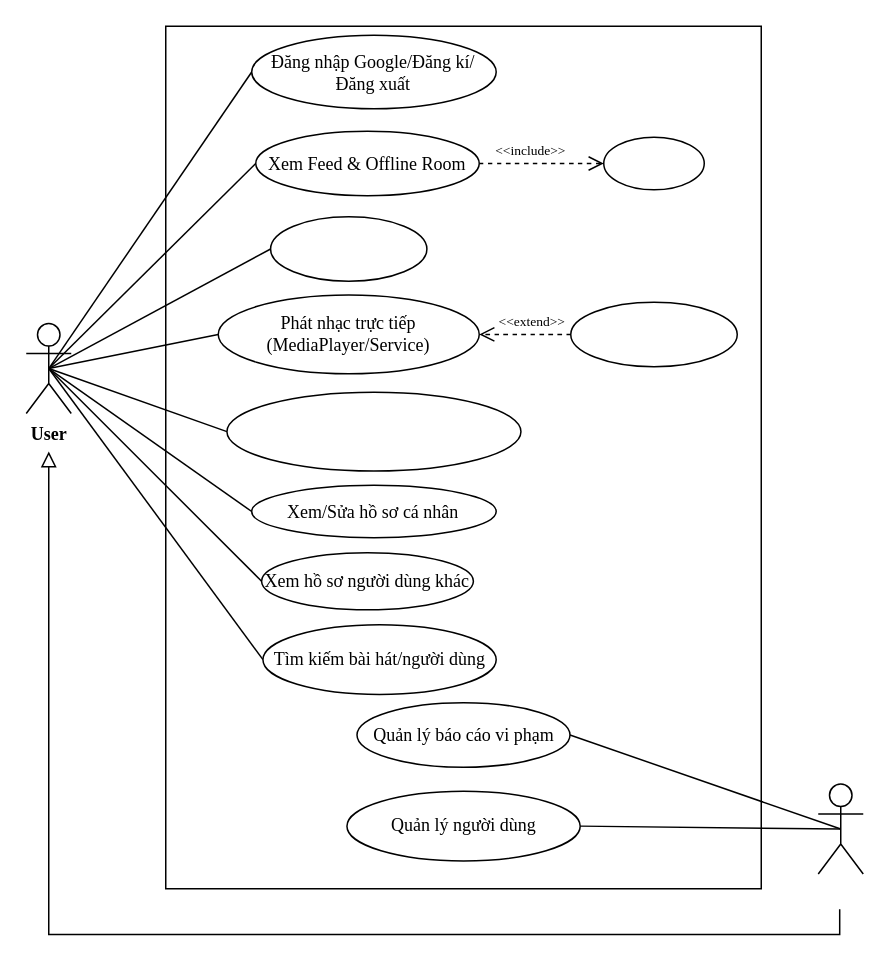
Some shapes in this 893 by 977 pixel diagram are drawn without their labels. Each missing label, with the centre of its shape:
"Admin" goes at pixel 840 828.
"Lọc theo thể loại" goes at pixel 653 163.
"Tương tác: Like/Comment/Follow/Báo cáo" goes at pixel 373 431.
"Xem MV (Implicit Intent → Youtube)" goes at pixel 653 334.
"Đăng bài chia sẻ nhạc" goes at pixel 348 248.
